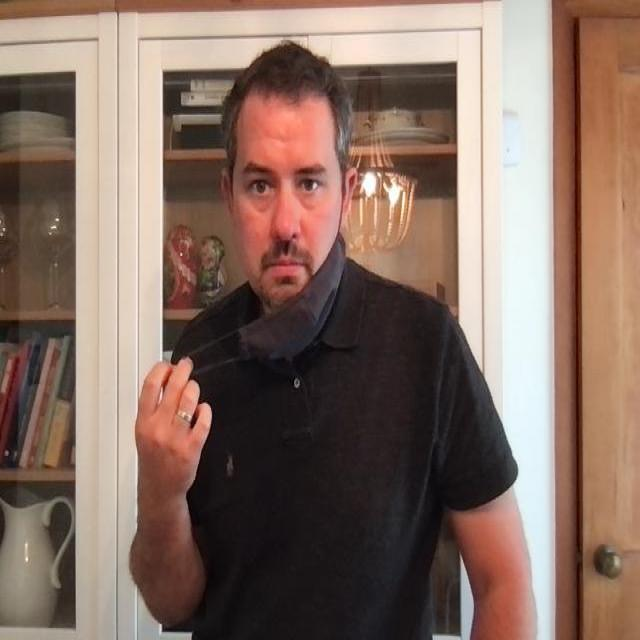face: (221, 40, 353, 333)
